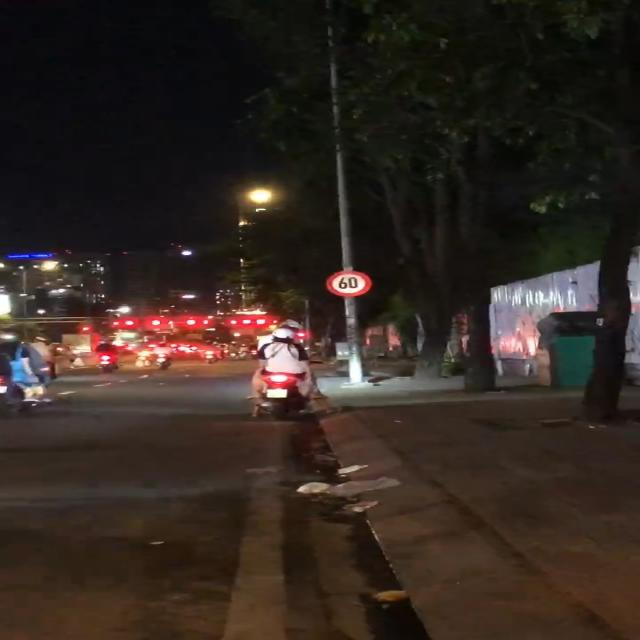Bien bao toc do toi da cho phep: (326, 267, 376, 299)
